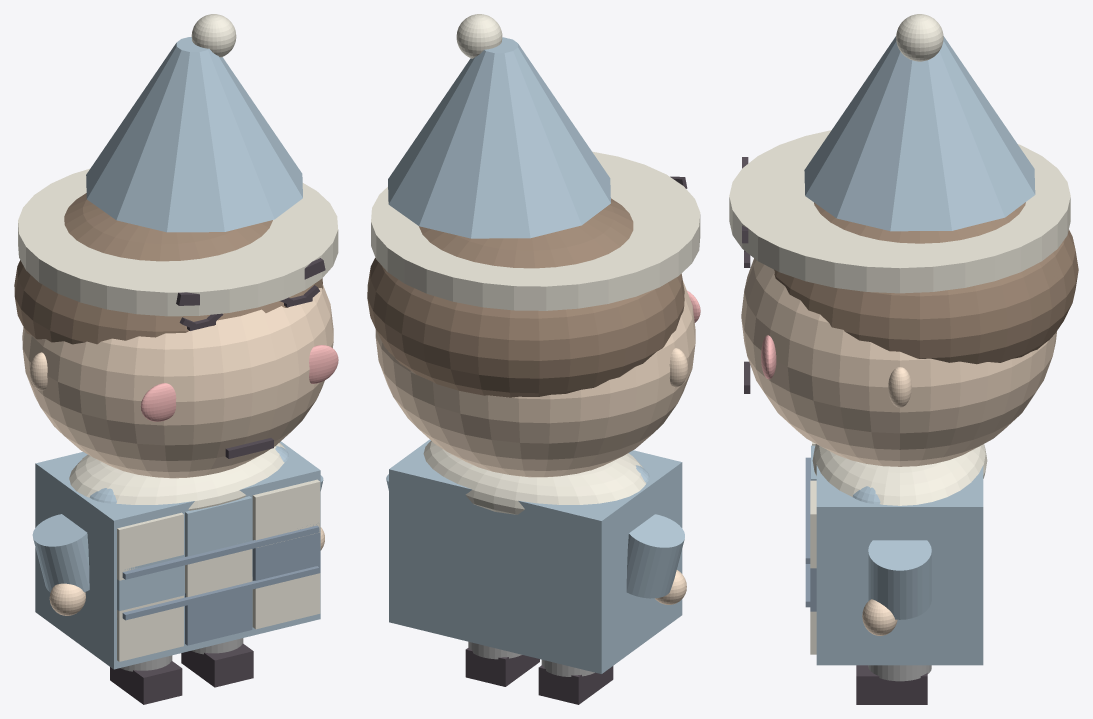
File: quilt.glb
3 views of the same model, side by side, from view 1: azimuth 30°, elevation 25°; view 2: azimuth 150°, elevation 25°; view 3: azimuth 270°, elevation 25° (orthographic). The views are drawn at different scales.
Parts seen in each view (by area): view 1: Head, Nightcap, NightcapBrim, QuiltBody, HairCap, QuiltCollar, QuiltArm_L, Patch_2, Patch_1, Patch_0, Patch_6, Patch_8 (+14 smaller); view 2: QuiltBody, HairCap, Nightcap, Head, NightcapBrim, QuiltCollar, QuiltArm_L, Shoe_L, Shoe_R, NightcapPom, Ear_L, Hand_L; view 3: Head, Nightcap, NightcapBrim, QuiltBody, HairCap, QuiltCollar, QuiltArm_R, Shoe_R, NightcapPom, Hand_R, Leg_R, Ear_R (+3 smaller).
Boxes of the visible parts, x1=… form: Head: x1=22, y1=284, x2=333, y2=478; Nightcap: x1=86, y1=37, x2=302, y2=232; NightcapBrim: x1=18, y1=168, x2=338, y2=316; QuiltBody: x1=35, y1=441, x2=320, y2=669; HairCap: x1=14, y1=193, x2=322, y2=344; QuiltCollar: x1=69, y1=442, x2=285, y2=510; QuiltArm_L: x1=32, y1=514, x2=89, y2=592; Patch_2: x1=252, y1=479, x2=320, y2=547; Patch_1: x1=185, y1=496, x2=252, y2=556; Patch_0: x1=117, y1=512, x2=183, y2=580; Patch_6: x1=117, y1=595, x2=183, y2=661; Patch_8: x1=252, y1=573, x2=320, y2=629; QuiltBody: x1=389, y1=439, x2=682, y2=673; HairCap: x1=367, y1=198, x2=684, y2=397; Nightcap: x1=388, y1=37, x2=610, y2=238; Head: x1=375, y1=281, x2=695, y2=477; NightcapBrim: x1=371, y1=151, x2=700, y2=310; QuiltCollar: x1=423, y1=441, x2=646, y2=514; QuiltArm_L: x1=626, y1=514, x2=684, y2=598; Shoe_L: x1=538, y1=665, x2=613, y2=704; Shoe_R: x1=465, y1=647, x2=539, y2=686; NightcapPom: x1=456, y1=14, x2=502, y2=58; Ear_L: x1=669, y1=348, x2=688, y2=387; Hand_L: x1=655, y1=570, x2=686, y2=604; Head: x1=741, y1=258, x2=1056, y2=466; Nightcap: x1=804, y1=36, x2=1035, y2=231; NightcapBrim: x1=729, y1=130, x2=1070, y2=293; QuiltBody: x1=816, y1=465, x2=983, y2=665; HairCap: x1=774, y1=202, x2=1078, y2=364; QuiltCollar: x1=812, y1=444, x2=987, y2=505; QuiltArm_R: x1=868, y1=540, x2=931, y2=619; Shoe_R: x1=856, y1=665, x2=927, y2=704; NightcapPom: x1=896, y1=14, x2=943, y2=61; Hand_R: x1=862, y1=599, x2=897, y2=635; Leg_R: x1=868, y1=665, x2=931, y2=681; Ear_R: x1=888, y1=367, x2=911, y2=407.
Size of the model in its own units: 0.9579 by 2 by 0.9263.
